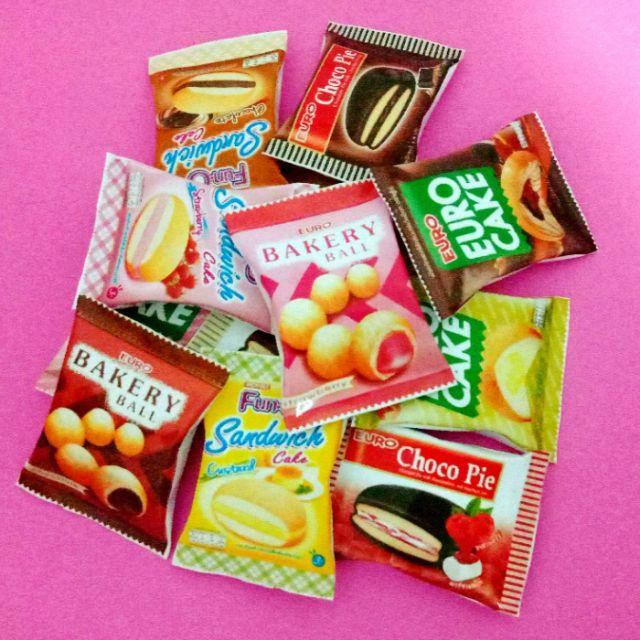plastic: (13, 18, 600, 628)
